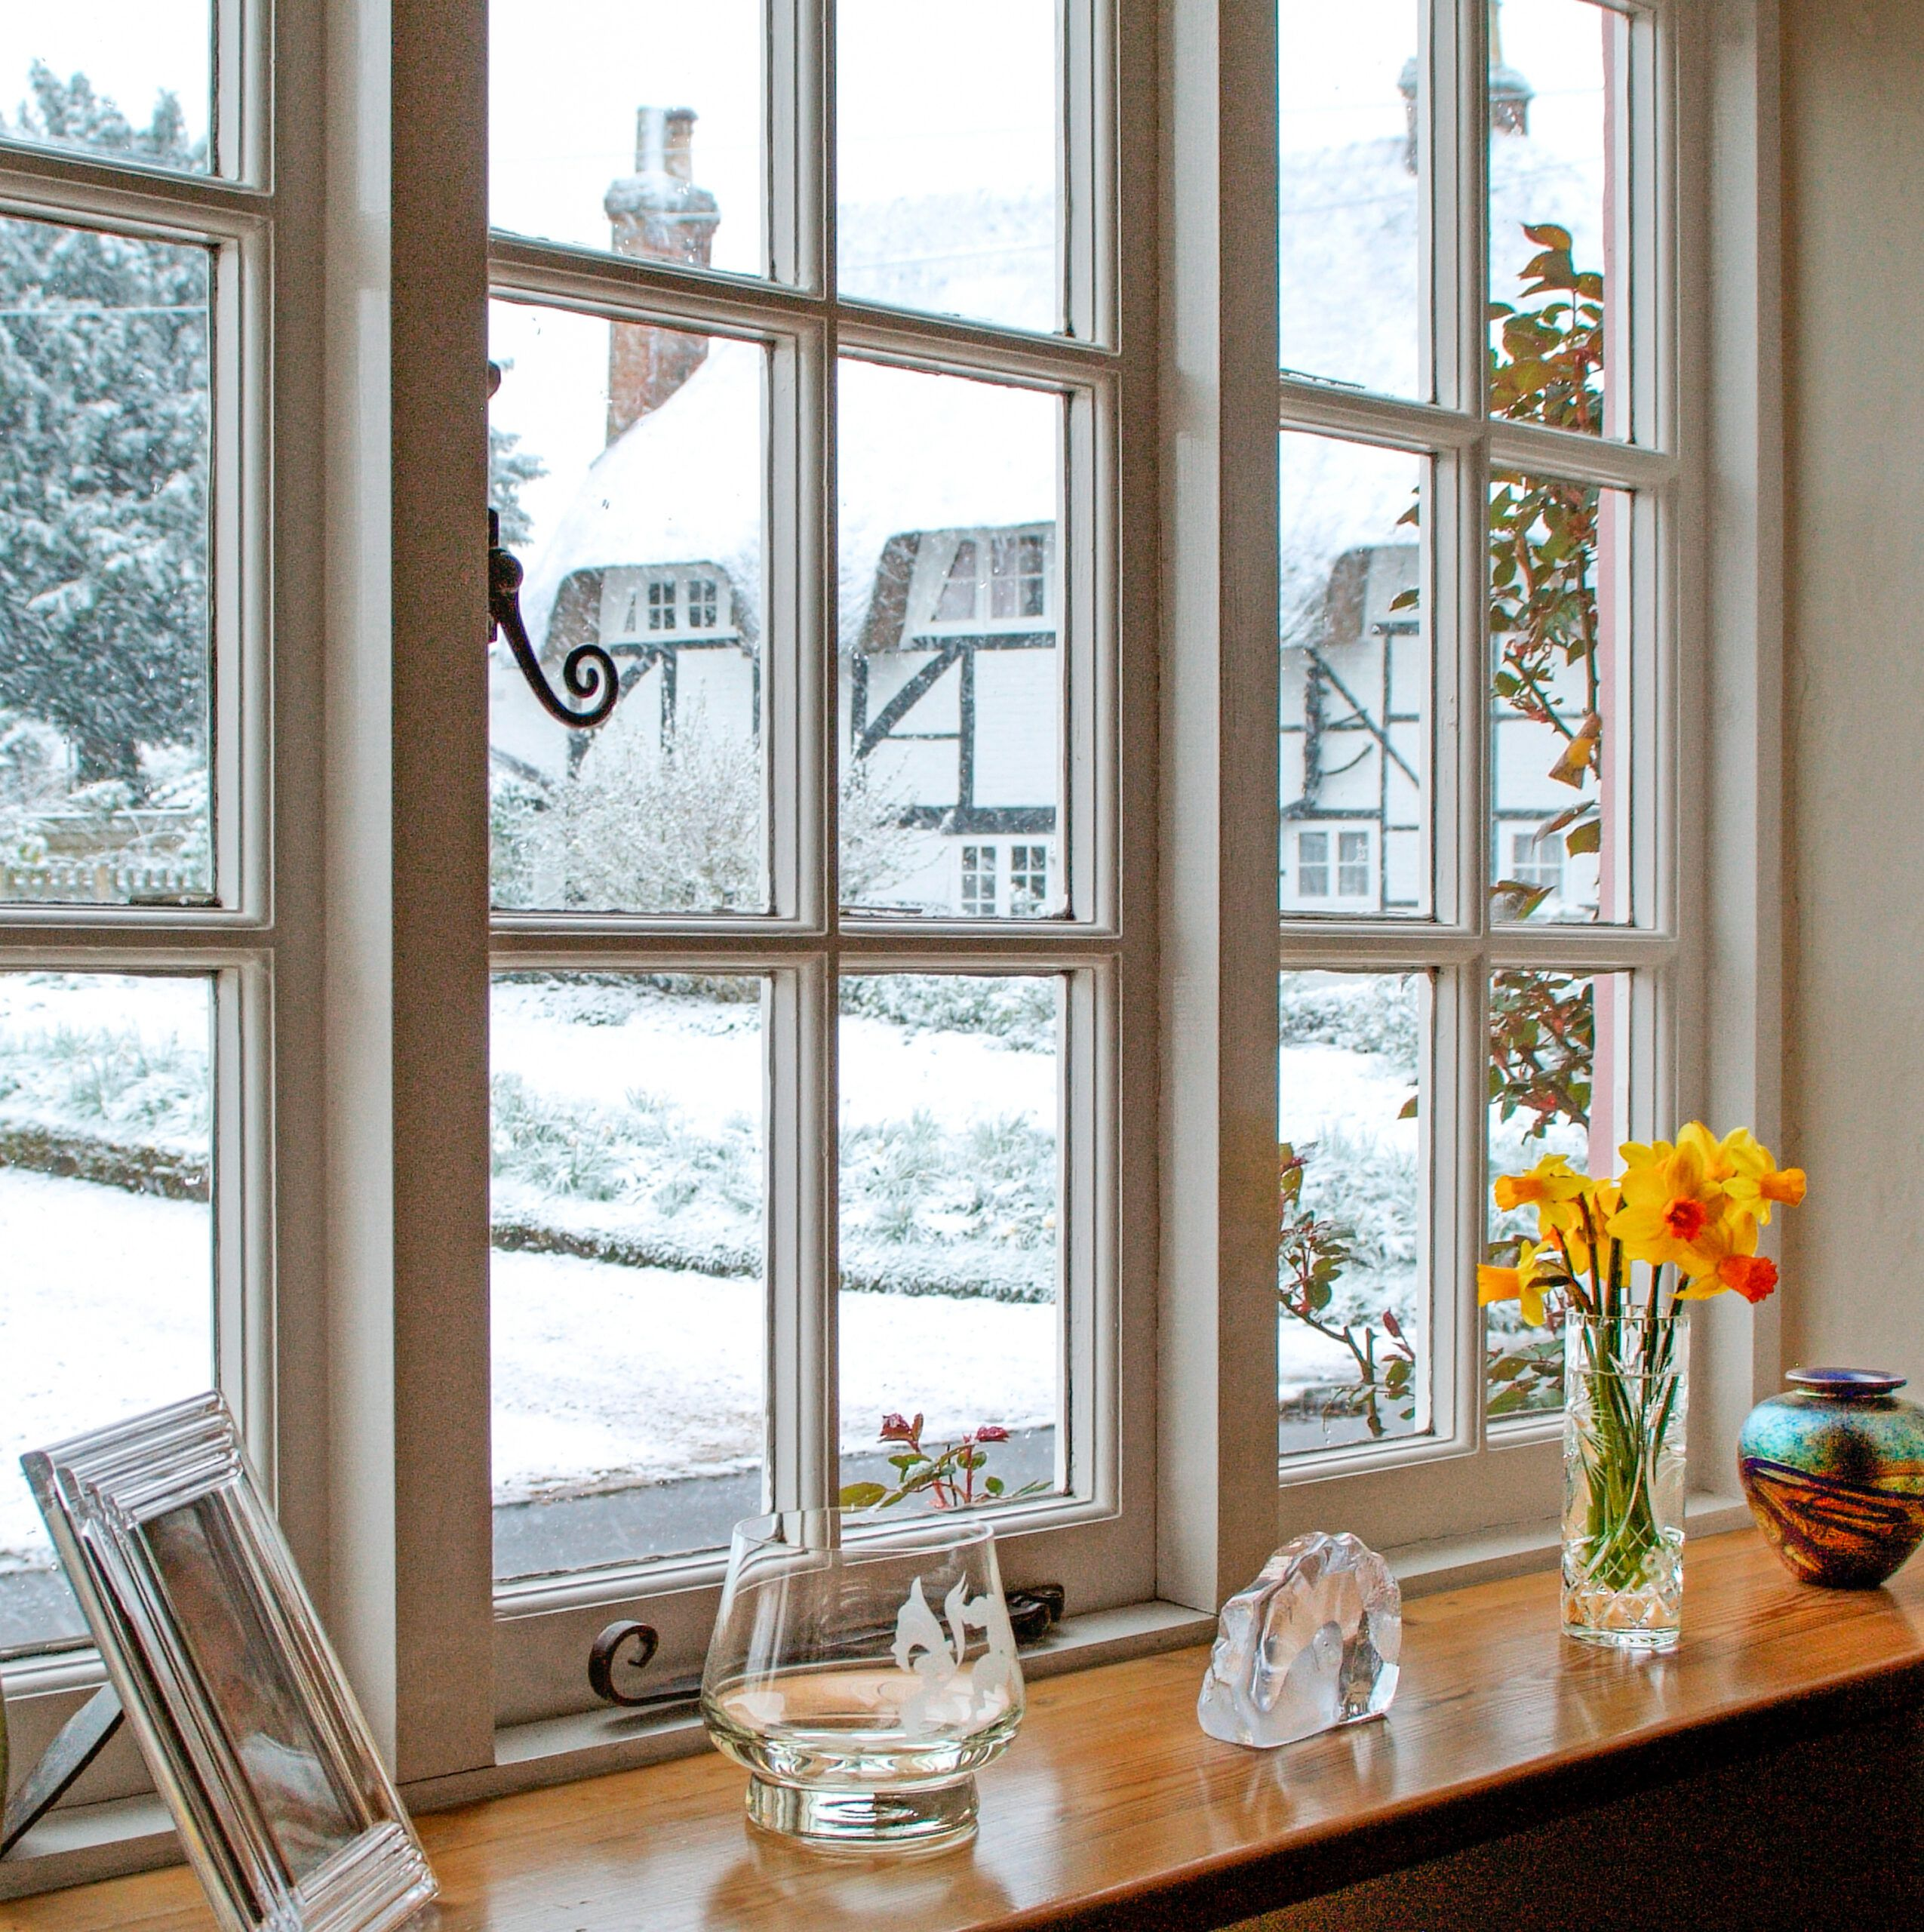Window: (500, 0, 1110, 1597), (1283, 2, 1661, 1475), (0, 14, 310, 1631)
